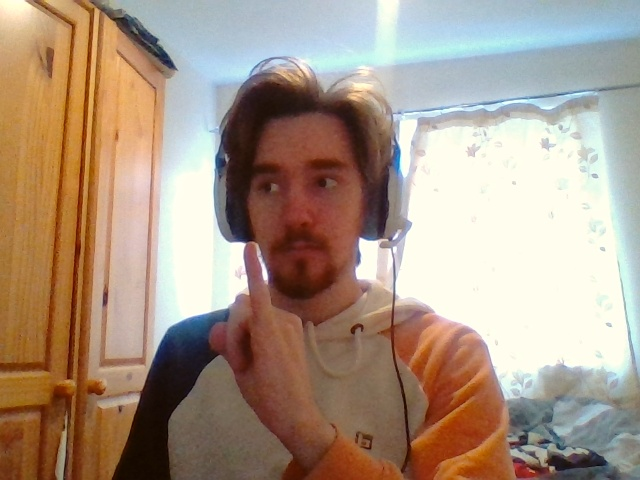bad: (210, 241, 304, 411)
